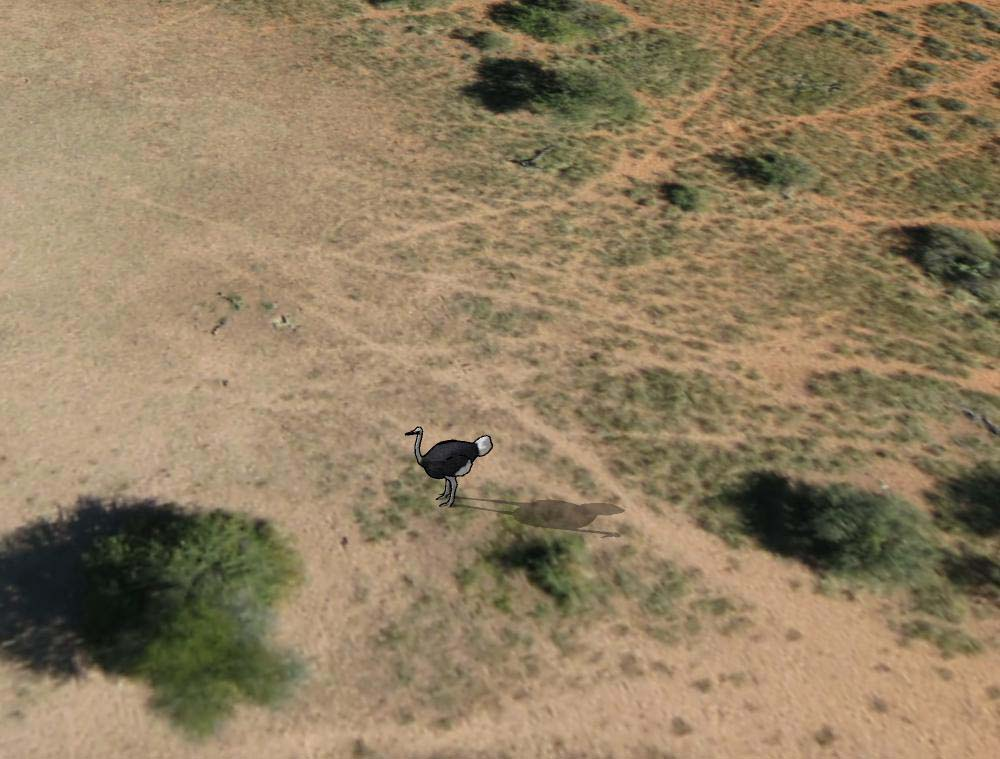springbok: (407, 421, 491, 513)
